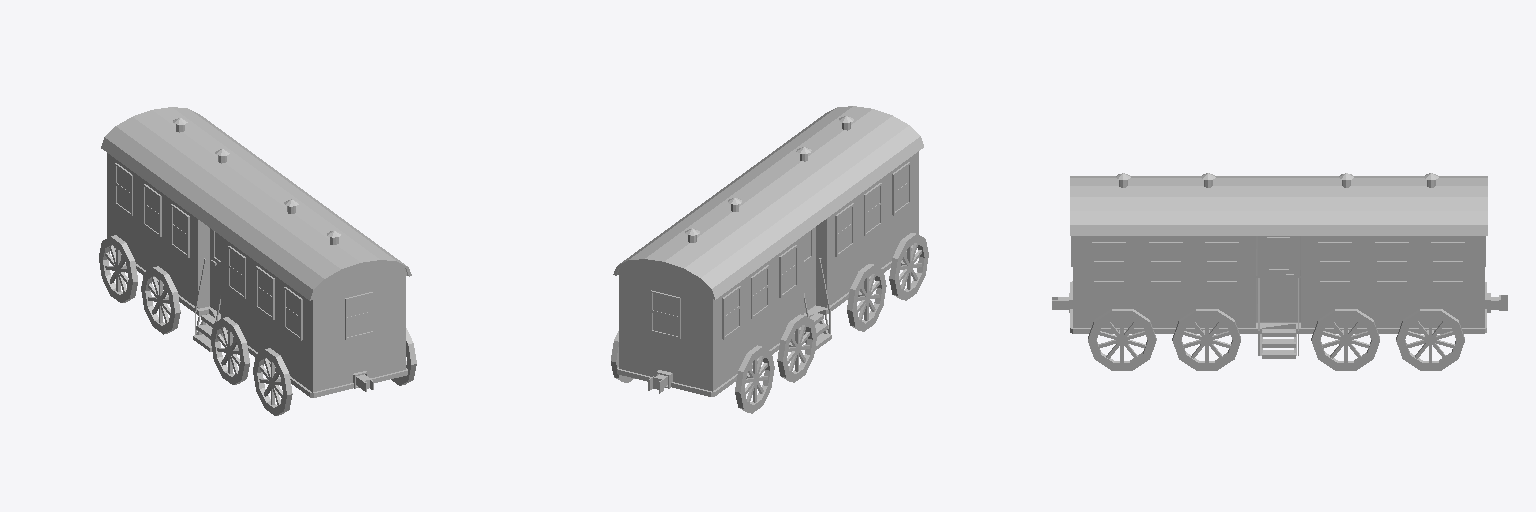
The model's file is passengerwagon.obj.
3 views of the same model, side by side, from view 1: azimuth 30°, elevation 25°; view 2: azimuth 150°, elevation 25°; view 3: azimuth 270°, elevation 25° (orthographic).
Visible parts, largest first — view 1: Plane.011_Plane.008_Plane.011_Plane.005; view 2: Plane.011_Plane.008_Plane.011_Plane.005; view 3: Plane.011_Plane.008_Plane.011_Plane.005.
Part boxes in pixels (left/top/right/bottom): Plane.011_Plane.008_Plane.011_Plane.005: left=99, top=107, right=416, bottom=415; Plane.011_Plane.008_Plane.011_Plane.005: left=611, top=106, right=928, bottom=413; Plane.011_Plane.008_Plane.011_Plane.005: left=1052, top=173, right=1507, bottom=370.
Bounding box in the file's own units: 5.31 × 6.49 × 16.15.